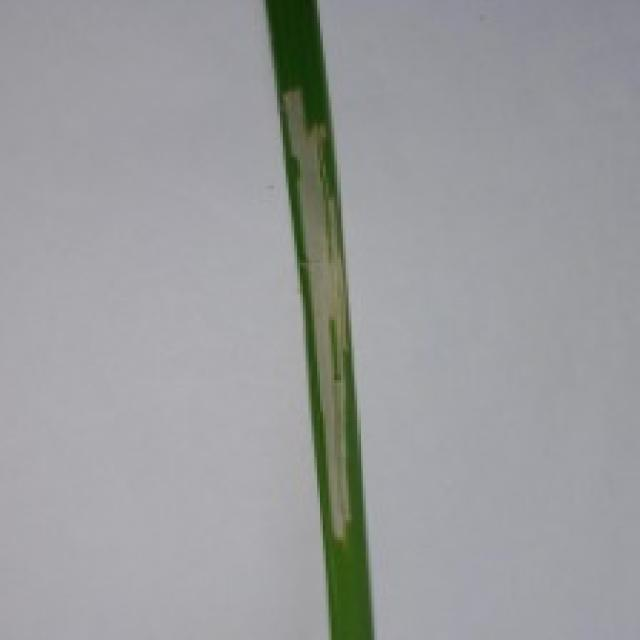Bacterial_Blight: (278, 83, 374, 543)
